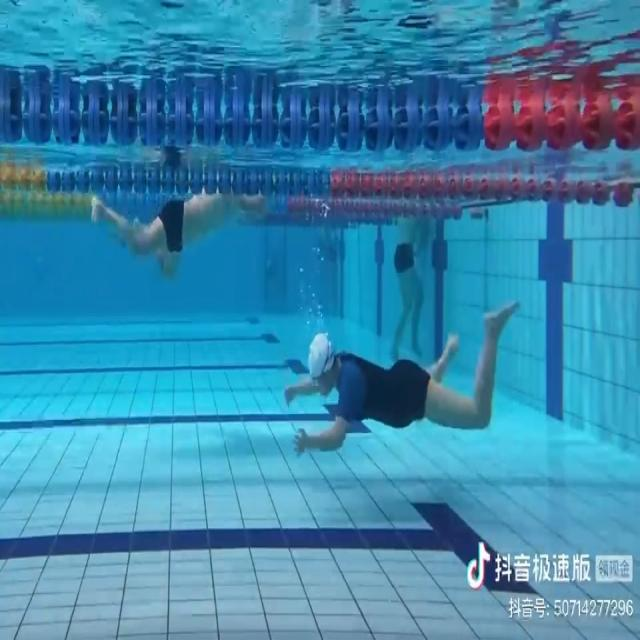Drowning: (284, 305, 517, 454)
Swimming: (89, 182, 266, 280)
